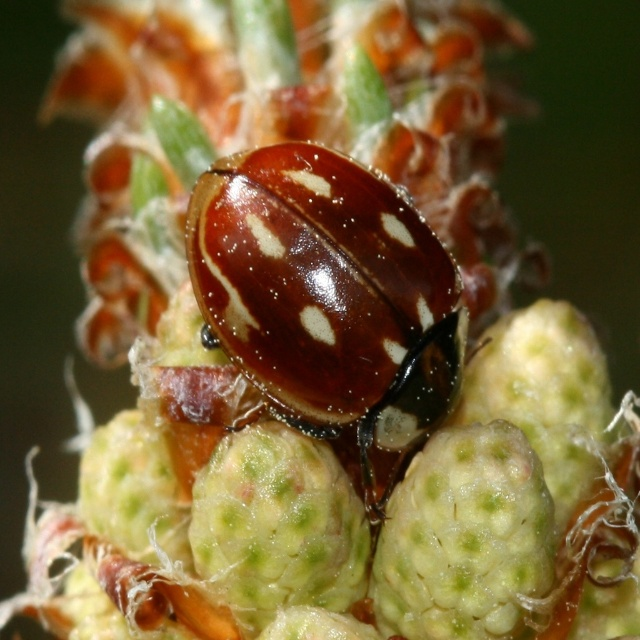Ladybug: (188, 137, 482, 522)
